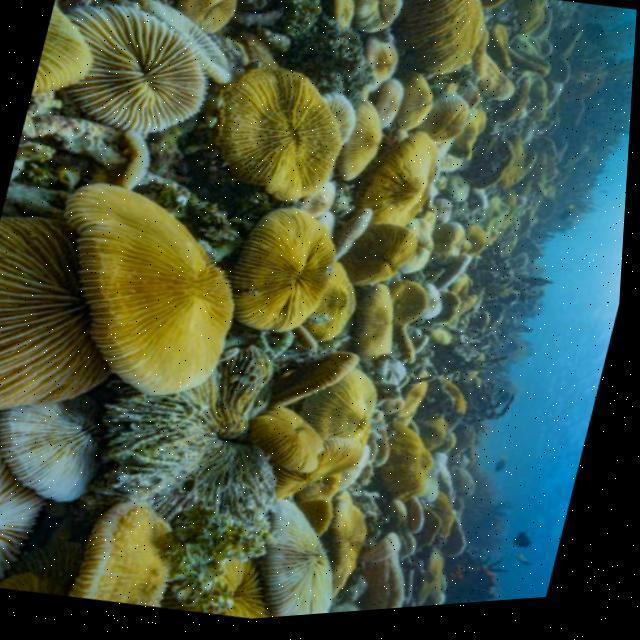Bleached Coral: (5, 404, 104, 532), (255, 519, 349, 603)
Healthy Coral: (0, 0, 497, 390), (271, 395, 379, 505), (70, 504, 171, 606)
